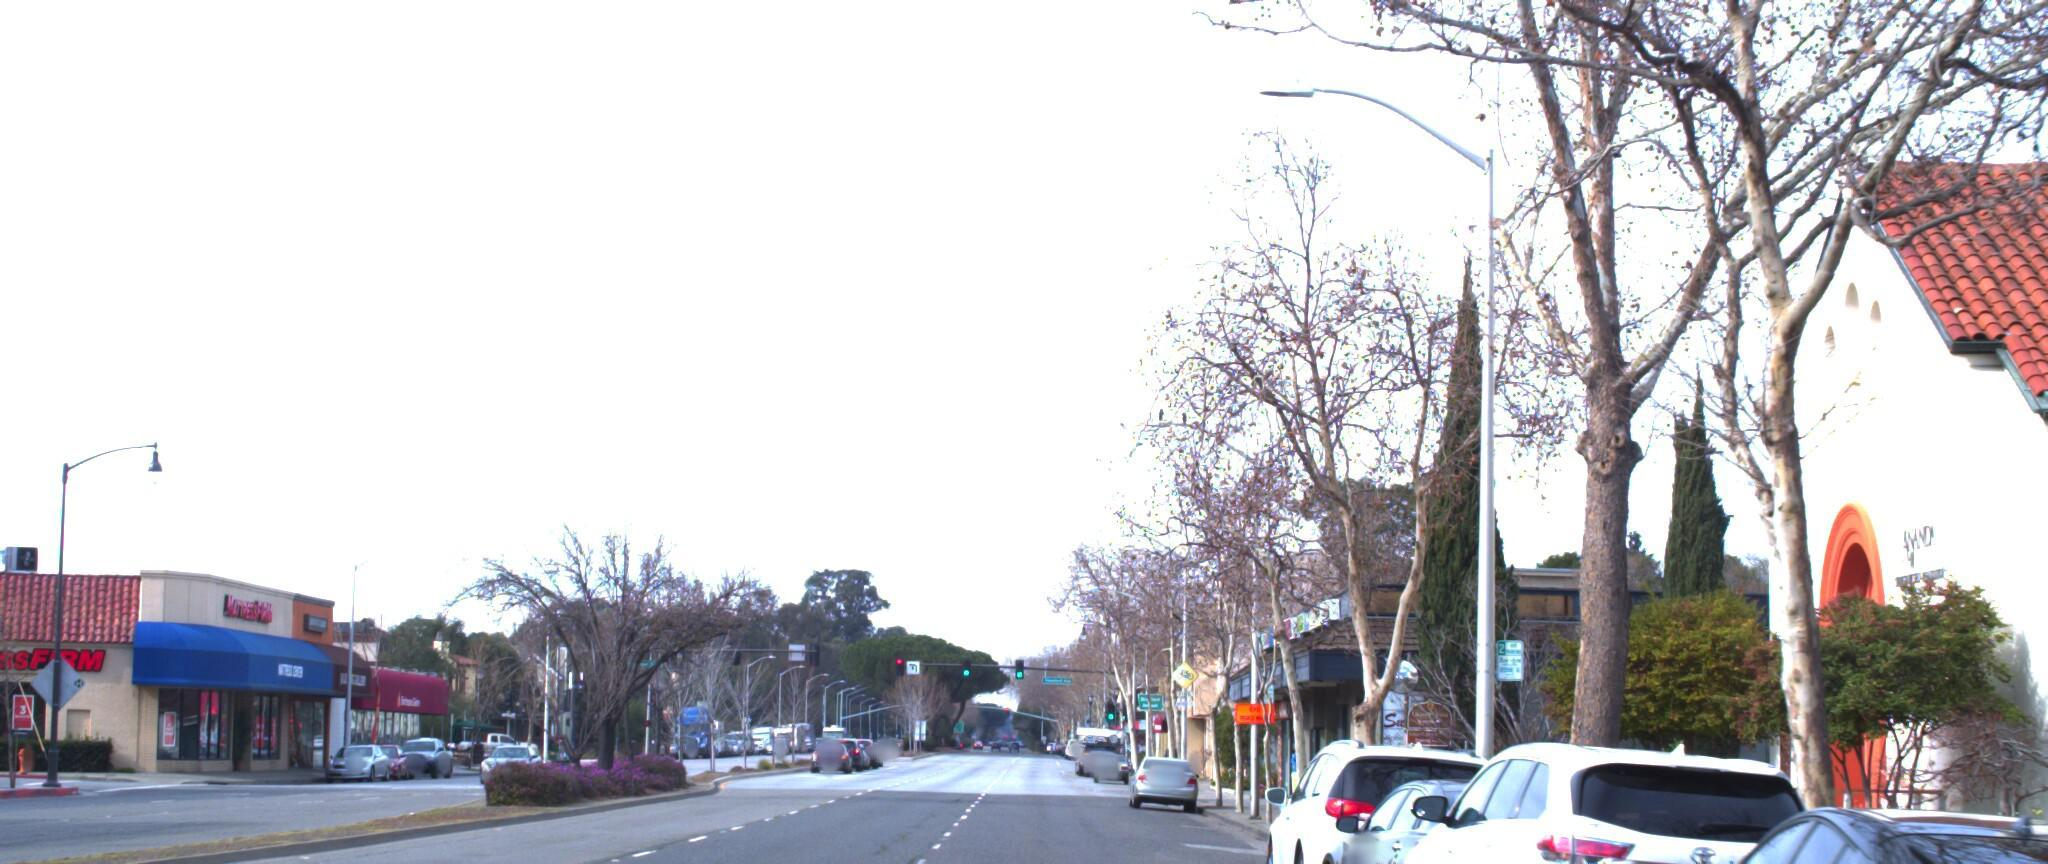car: (1381, 722, 1868, 864), (1246, 718, 1543, 864), (1603, 769, 2048, 864), (1283, 758, 1682, 864), (1121, 743, 1196, 797)
